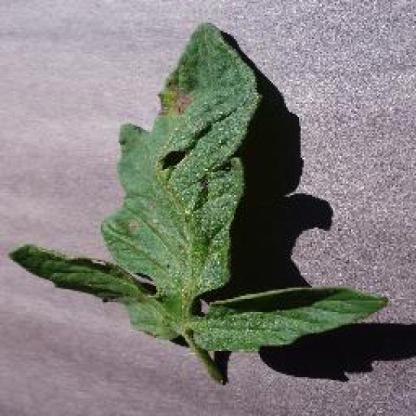Tomato_Blight: (14, 24, 389, 346)
